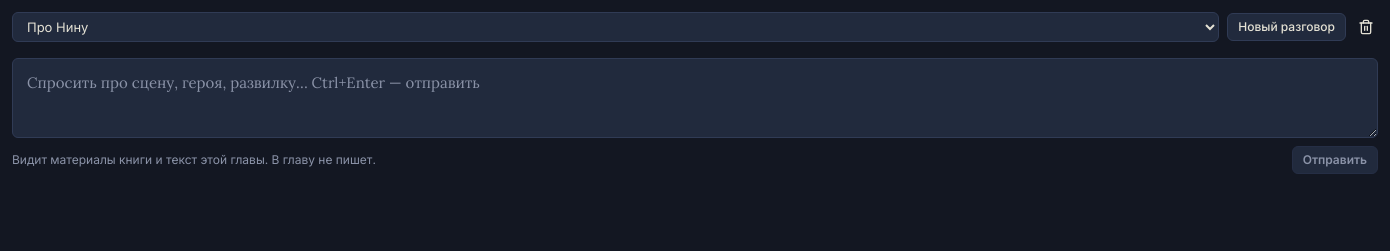
Test: ChatPanel › ошибку потока печатает и не даёт повтору задвоить вопрос автора
The image size is (1390, 251).
Type "Вопрос" into the text box. click: (695, 98)
box: [12,58,1378,138]
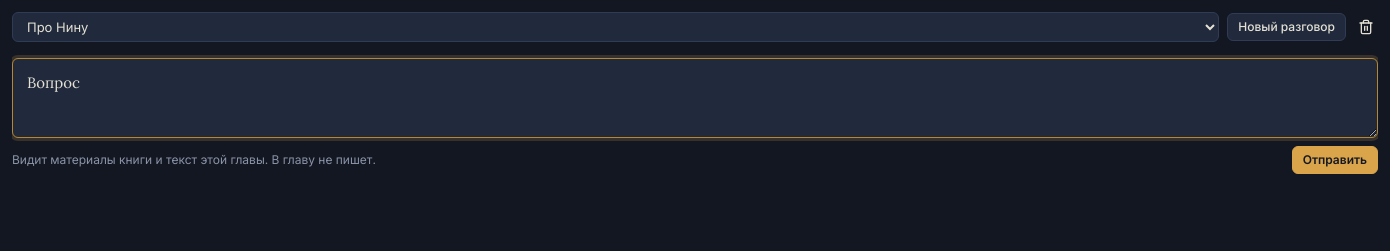
Click the button "Отправить". click: (1335, 160)
box: [1292,146,1378,174]
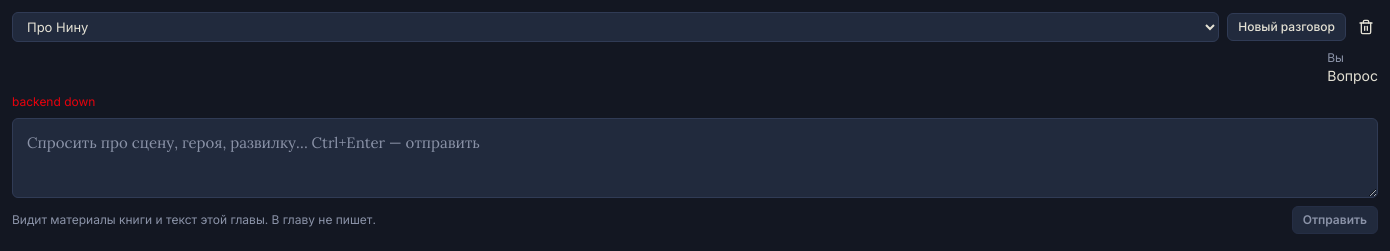
Expected: the text box with placeholder "Спросить про сцену, героя, развилку… Ctrl+Enter — отправить" is shown, [12,118,1378,198]
Now the text "backend down" is shown, box [12,94,95,109]
Now the text "Вопрос" is shown once, box [1327,66,1378,86]
